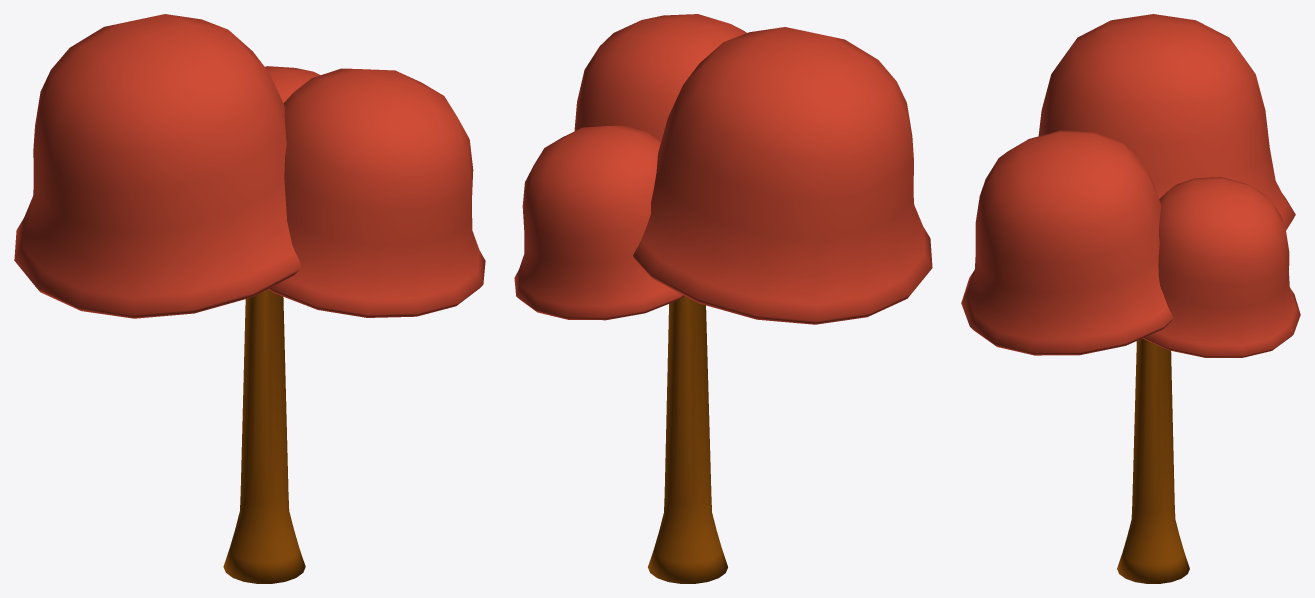
File: WillowTreeRed.gltf
3 renders of one model, left to right at view 1: azimuth 30°, elevation 25°; view 2: azimuth 150°, elevation 25°; view 3: azimuth 270°, elevation 25°, orthographic. The views are drawn at different scales.
Parts seen in each view (by area): view 1: Cylinder.004; view 2: Cylinder.004; view 3: Cylinder.004.
Boxes of the visible parts, x1,y1,x2,y2 form: Cylinder.004: [14, 14, 485, 583]; Cylinder.004: [514, 14, 932, 583]; Cylinder.004: [961, 14, 1300, 583].
Size of the model in its own units: 10.94 by 15.01 by 9.3.
